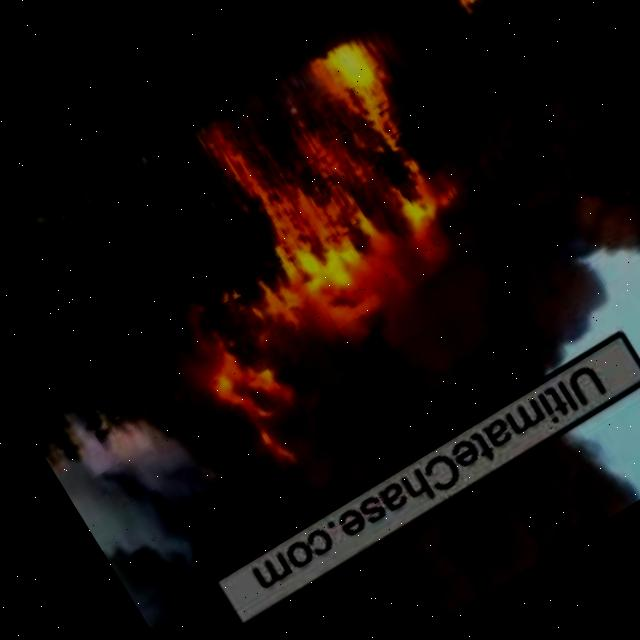Fire: (173, 3, 480, 302), (175, 321, 317, 471), (444, 0, 508, 21)
Smoke: (242, 189, 632, 504), (164, 416, 640, 637), (39, 367, 292, 625)
